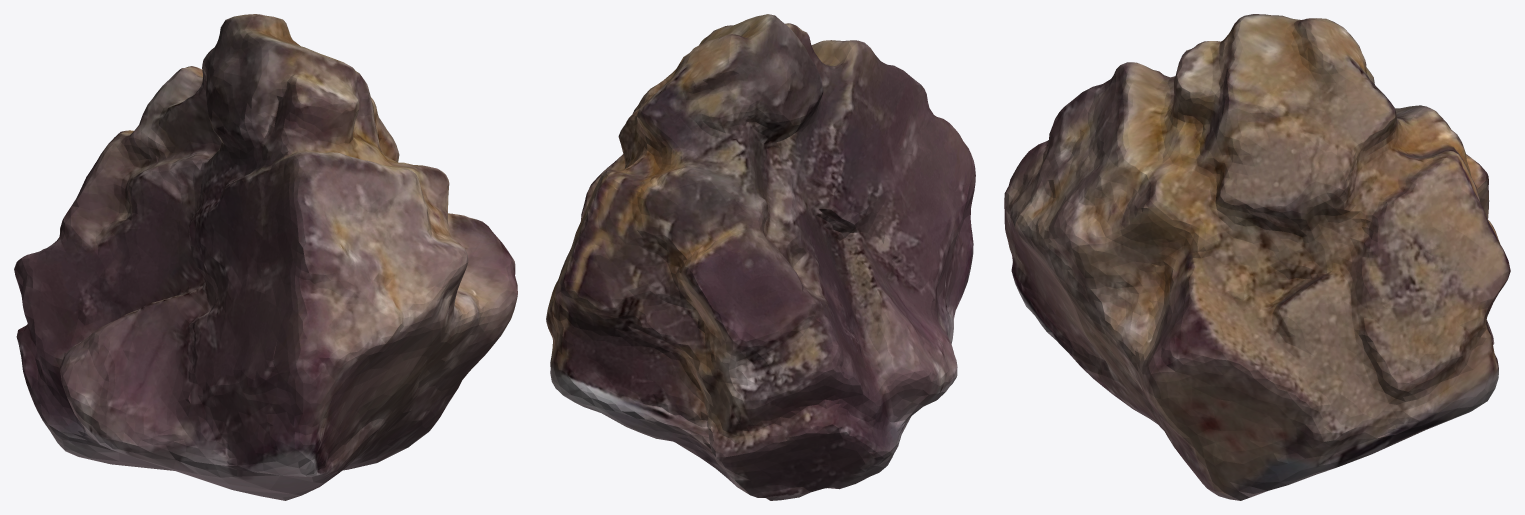
3 views of the same model, side by side, from view 1: azimuth 30°, elevation 25°; view 2: azimuth 150°, elevation 25°; view 3: azimuth 270°, elevation 25° (orthographic). The views are drawn at different scales.
Size of the model in its own units: 0.0444 by 0.0465 by 0.0493.
1 material, 1 textured.
